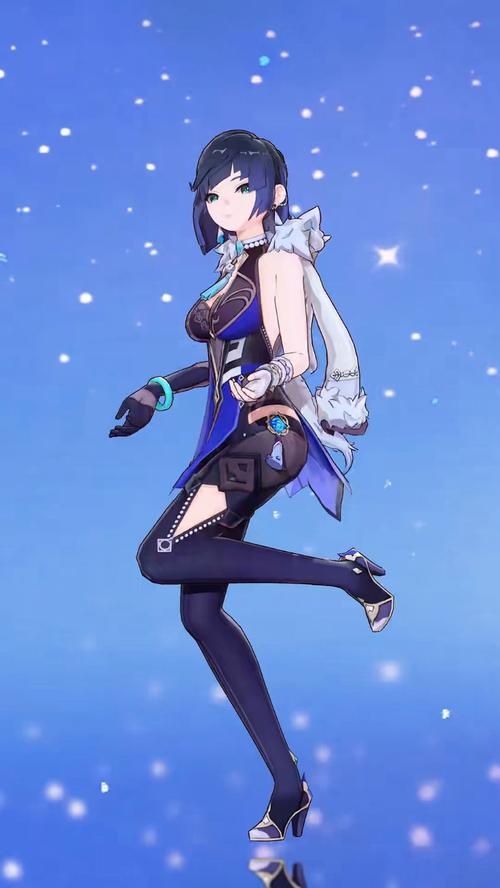夜兰: (109, 132, 398, 849)
